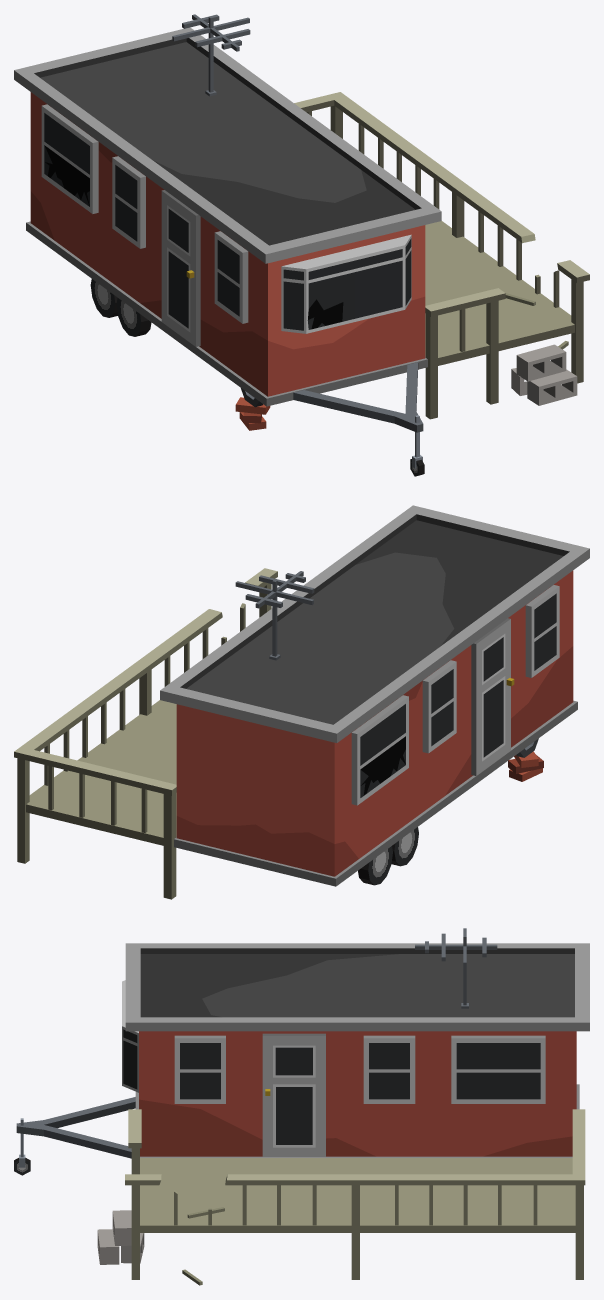
The model's file is SA_Bld_Trailer_Damaged_04.gltf.
3 views of the same model, one above another, from view 1: azimuth 30°, elevation 25°; view 2: azimuth 150°, elevation 25°; view 3: azimuth 270°, elevation 25° (orthographic). The views are drawn at different scales.
Visible parts, largest first — view 1: SA_Bld_Trailer_Damaged_04; view 2: SA_Bld_Trailer_Damaged_04; view 3: SA_Bld_Trailer_Damaged_04.
Boxes of the visible parts, <box> form: SA_Bld_Trailer_Damaged_04: <box>14,14,589,476</box>; SA_Bld_Trailer_Damaged_04: <box>14,505,589,899</box>; SA_Bld_Trailer_Damaged_04: <box>14,928,589,1285</box>.
Bounding box in the file's own units: 9.39 × 7.29 × 14.77.
1 material, 1 textured.
